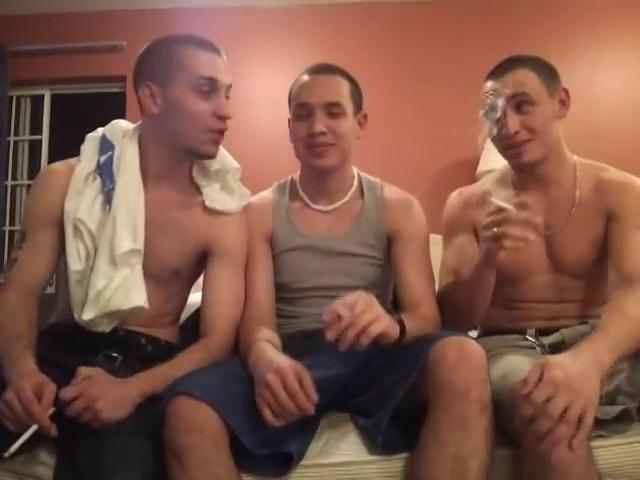cigarette: (3, 404, 56, 458), (481, 194, 521, 214)
